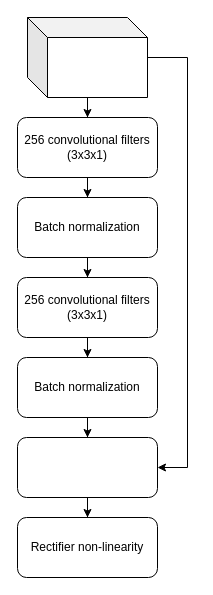
The diagram is 213 pixels wide and 595 high, and some of its shapes have lost their labels. The centre of each missing label's shape, as x and y in pixels:
Input: the point at 87,57
Skip connection: the point at 87,467
